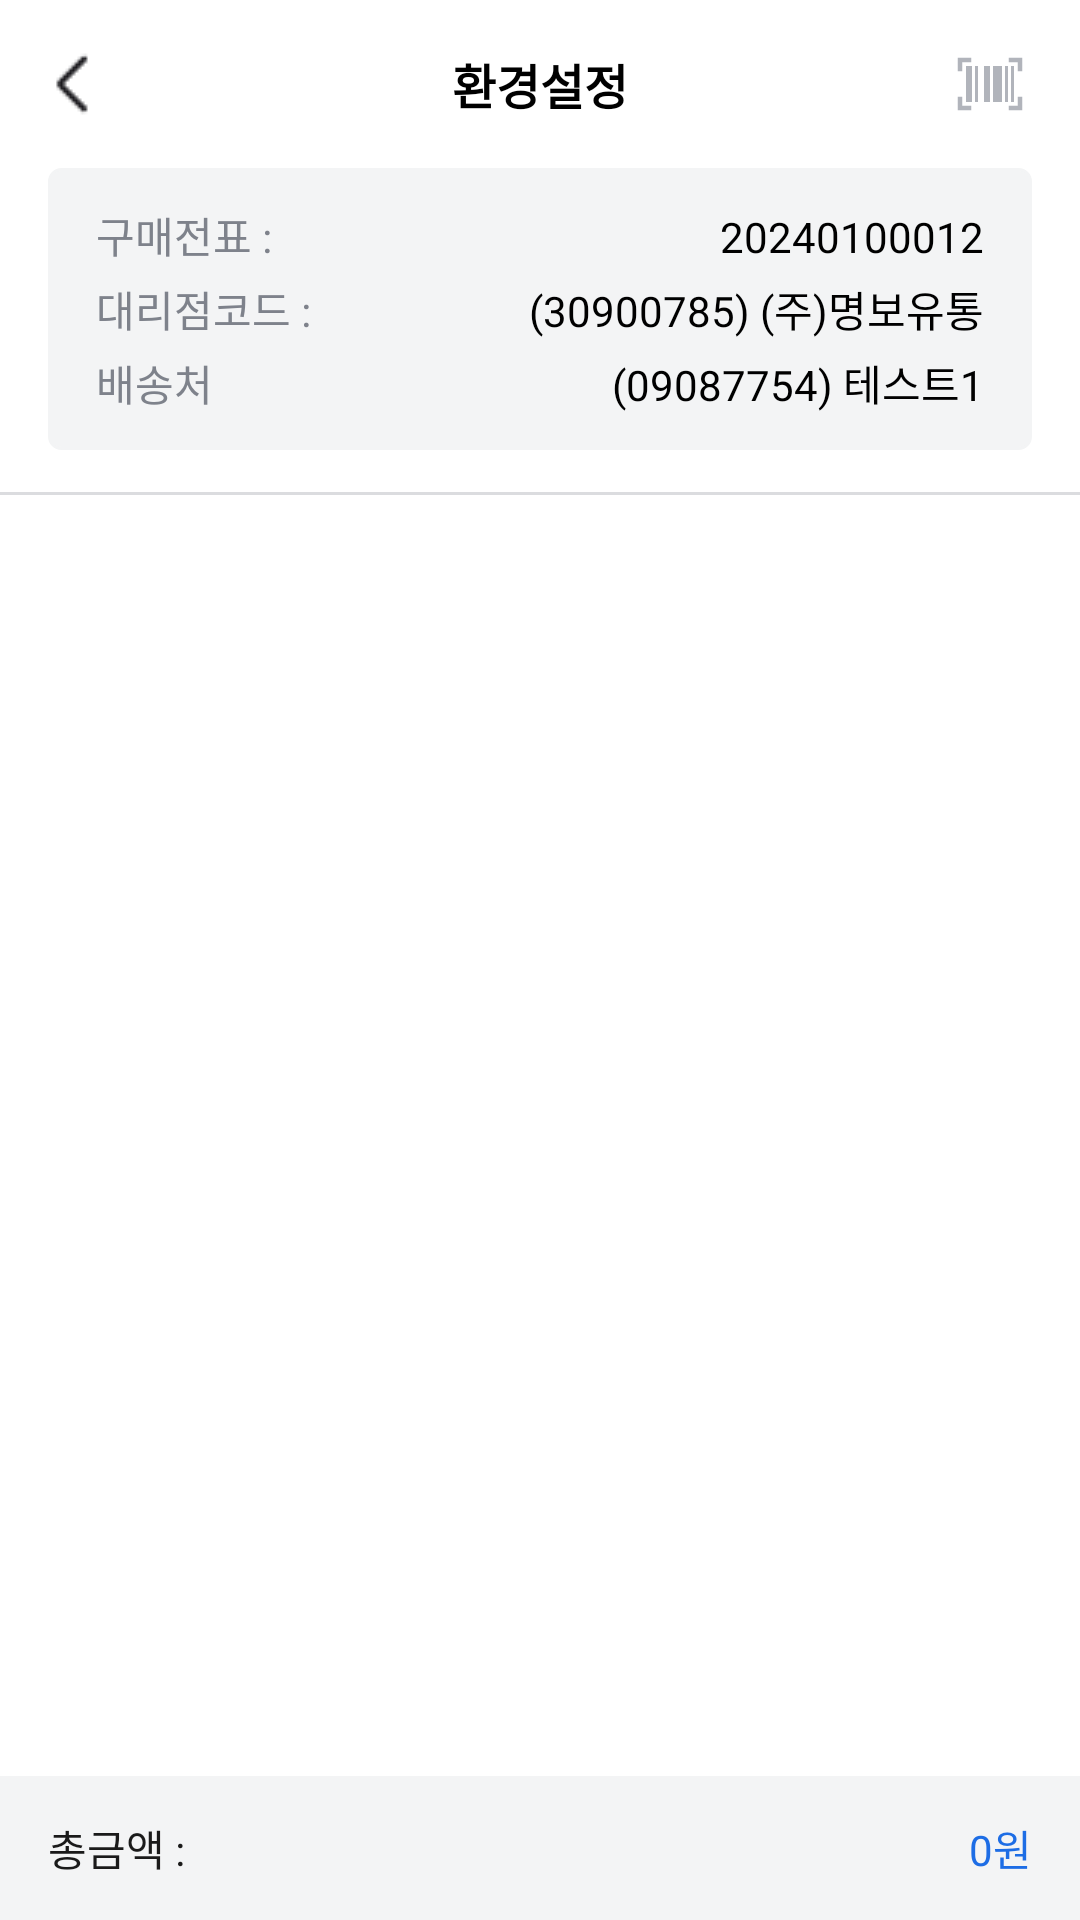

Icon bounding boxes for this 1080px x 1920px phone screenshot, format (x1, y1, x2, y2):
arrow back: (56, 55, 88, 113)
scan: (958, 58, 1022, 110)
